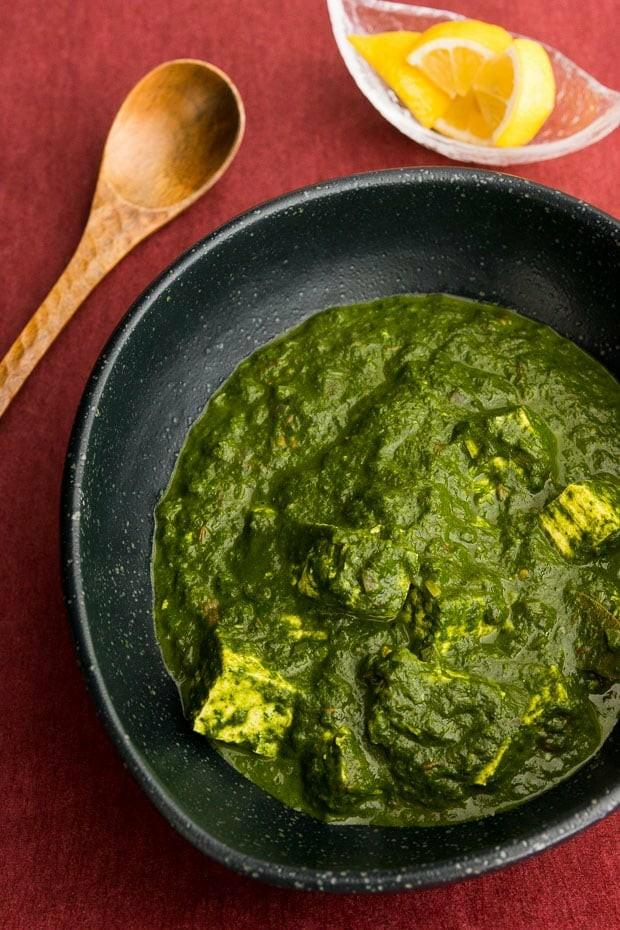PalakPaneer: (153, 293, 620, 834)
